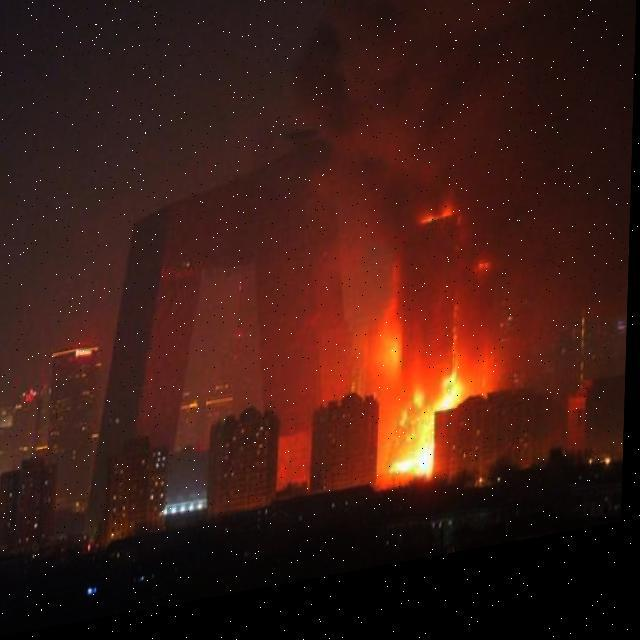Fire: (398, 389, 464, 502), (380, 322, 407, 396), (422, 212, 456, 242)
